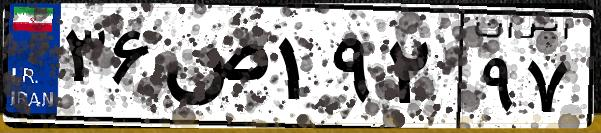1: (270, 28, 330, 110)
2: (385, 28, 445, 110)
3: (57, 26, 110, 100)
6: (110, 28, 158, 98)
7: (525, 38, 570, 115)
9: (330, 28, 385, 110), (475, 38, 525, 113)
ص: (158, 20, 270, 120)
